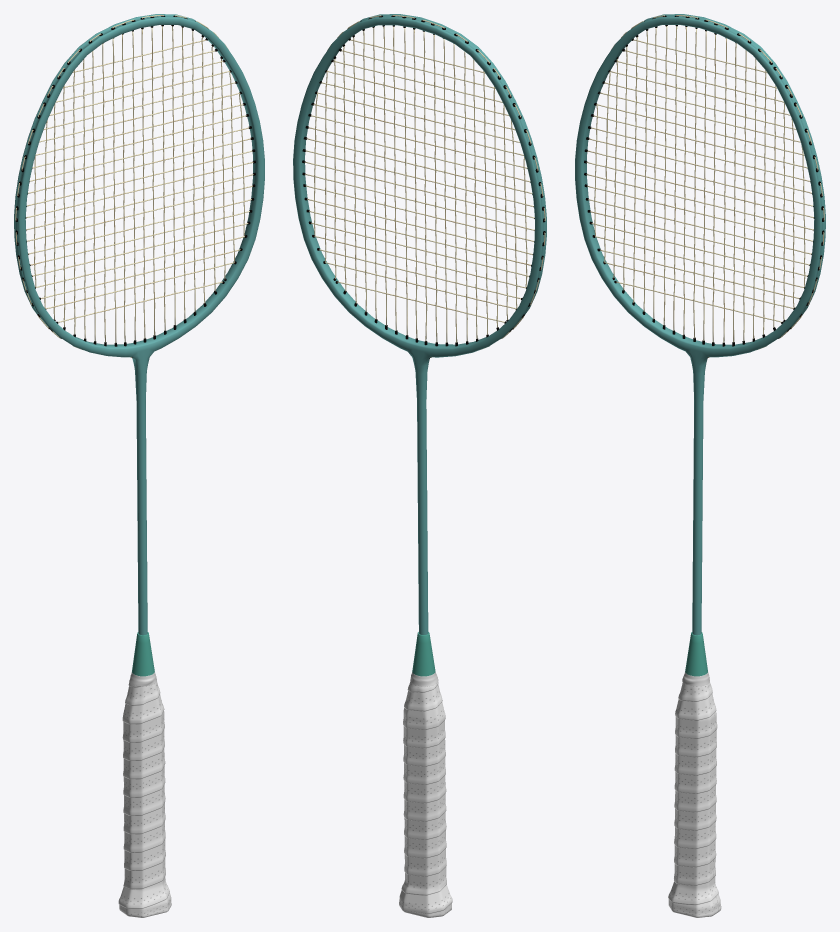
Rendered from kin-chen-racket.glb.
3 renders of one model, left to right at view 1: azimuth 30°, elevation 25°; view 2: azimuth 150°, elevation 25°; view 3: azimuth 330°, elevation 25°, orthographic.
Visible parts, largest first — view 1: KinChen_net, KinChen_racket, KinChen_straps, KinChen_hole, KinChen_hole_001; view 2: KinChen_net, KinChen_racket, KinChen_straps, KinChen_hole, KinChen_hole_001; view 3: KinChen_net, KinChen_racket, KinChen_straps, KinChen_hole, KinChen_hole_001.
Part boxes in pixels (box(x1,y1,x2,y2)): KinChen_net: box(15, 15, 253, 357); KinChen_racket: box(14, 14, 264, 635); KinChen_straps: box(118, 682, 171, 917); KinChen_hole: box(15, 15, 255, 358); KinChen_hole_001: box(132, 632, 154, 676); KinChen_net: box(304, 15, 545, 357); KinChen_racket: box(293, 14, 546, 634); KinChen_straps: box(399, 682, 452, 917); KinChen_hole: box(302, 15, 545, 358); KinChen_hole_001: box(412, 632, 435, 676); KinChen_net: box(586, 15, 824, 357); KinChen_racket: box(575, 14, 825, 635); KinChen_straps: box(668, 682, 721, 917); KinChen_hole: box(584, 15, 824, 358); KinChen_hole_001: box(685, 632, 707, 676).
Bounding box in the file's own units: 0.2937 × 1 × 0.042.
Materials: 6 (2 with a texture image).
